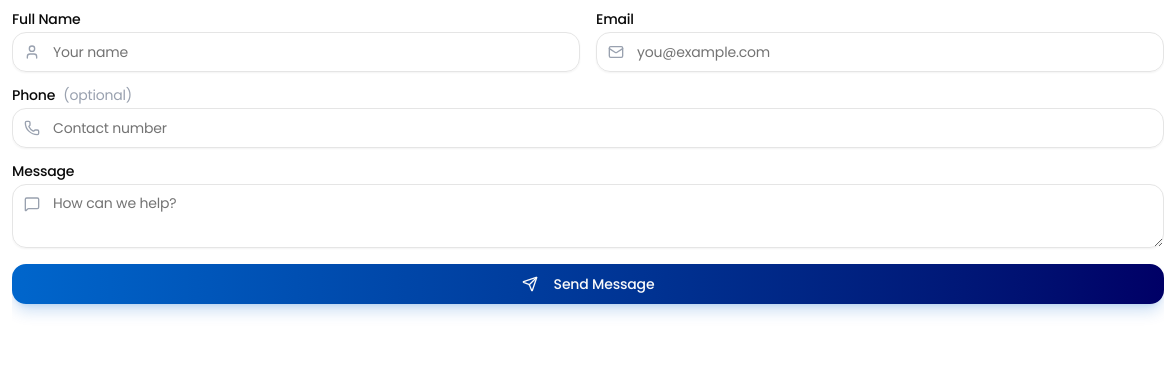
Test: ContactForm › shows validation errors and does not submit when required fields are missing
The width and height of the screenshot is (1176, 378).
Click the button "Send Message": (588, 284) [12,264,1164,304]
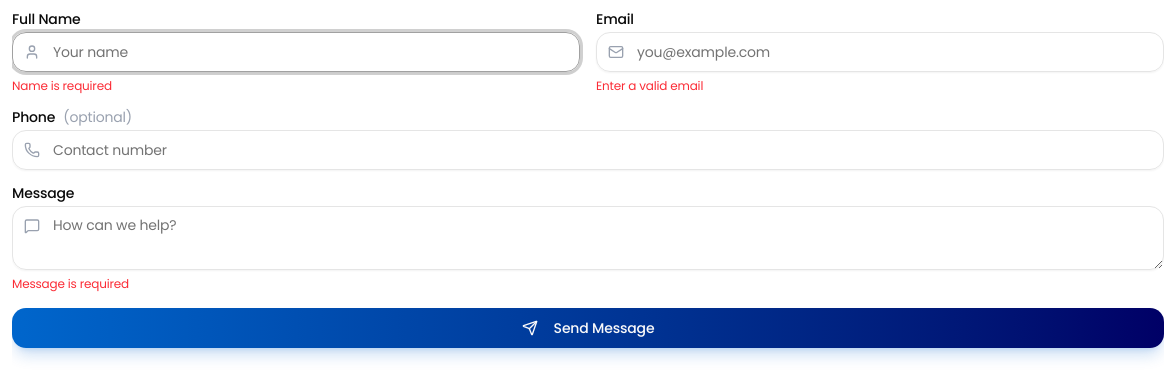
Expected: the text "Name is required" is shown, [12,77,112,94]
